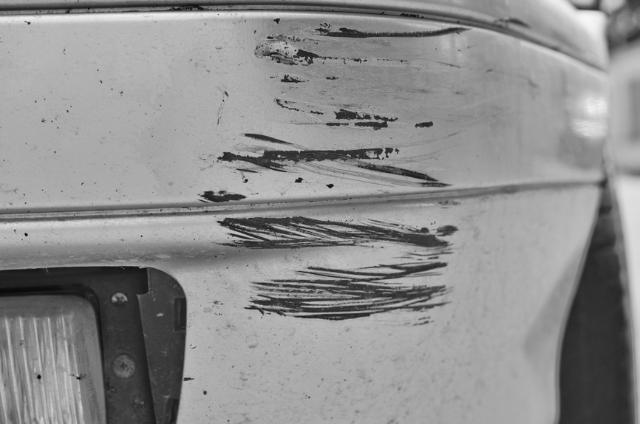Bumper: (175, 16, 514, 350)
